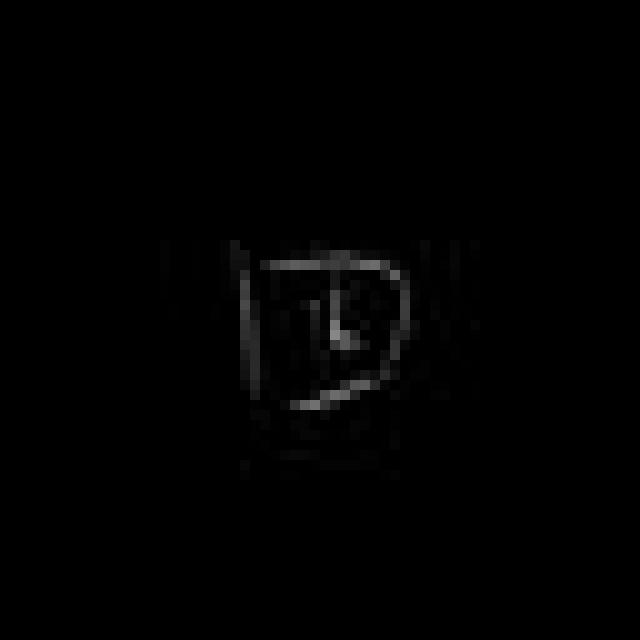4 -four-: (222, 241, 424, 432)
